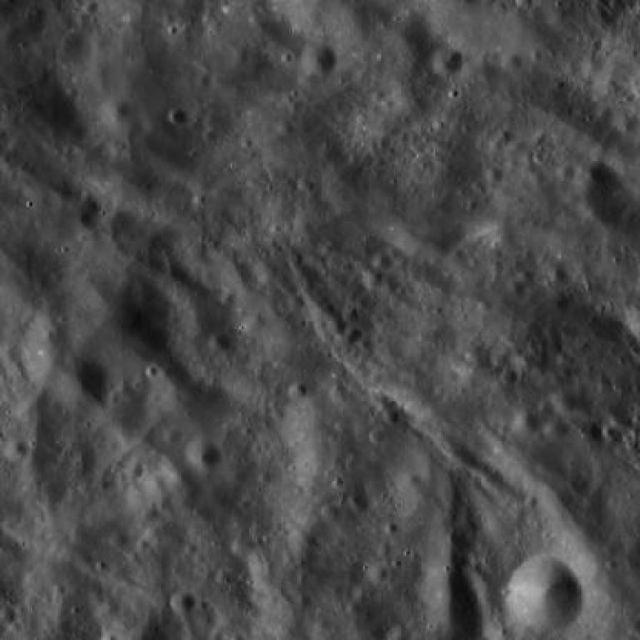crater: (64, 270, 176, 381), (506, 556, 584, 633), (418, 566, 482, 628), (282, 391, 344, 451), (165, 376, 224, 434), (51, 353, 108, 410), (16, 328, 70, 381), (386, 11, 437, 62), (148, 362, 194, 408), (292, 434, 336, 478), (219, 258, 258, 296), (298, 40, 336, 77), (186, 437, 220, 472), (580, 159, 612, 190), (432, 46, 462, 76), (511, 408, 542, 437), (99, 94, 127, 122), (293, 266, 319, 292), (552, 388, 578, 414), (290, 526, 316, 552), (170, 590, 196, 616), (614, 110, 640, 133), (2, 438, 27, 460), (360, 267, 383, 290), (303, 287, 326, 310), (230, 533, 253, 556), (74, 452, 98, 474), (298, 68, 320, 90), (243, 313, 265, 335), (505, 278, 527, 300), (372, 252, 394, 272), (54, 184, 74, 204), (209, 329, 229, 349), (326, 316, 346, 336), (316, 301, 336, 321), (548, 417, 568, 437), (124, 459, 144, 479), (368, 564, 388, 584), (321, 502, 341, 521), (168, 106, 187, 125), (555, 163, 574, 182), (548, 265, 567, 284), (502, 52, 522, 70), (0, 605, 18, 625), (288, 380, 307, 398), (343, 325, 362, 343), (484, 165, 502, 184), (539, 400, 558, 418), (404, 472, 422, 490), (276, 119, 293, 136), (162, 426, 180, 442), (499, 368, 516, 384), (288, 251, 304, 267), (383, 408, 399, 423)
